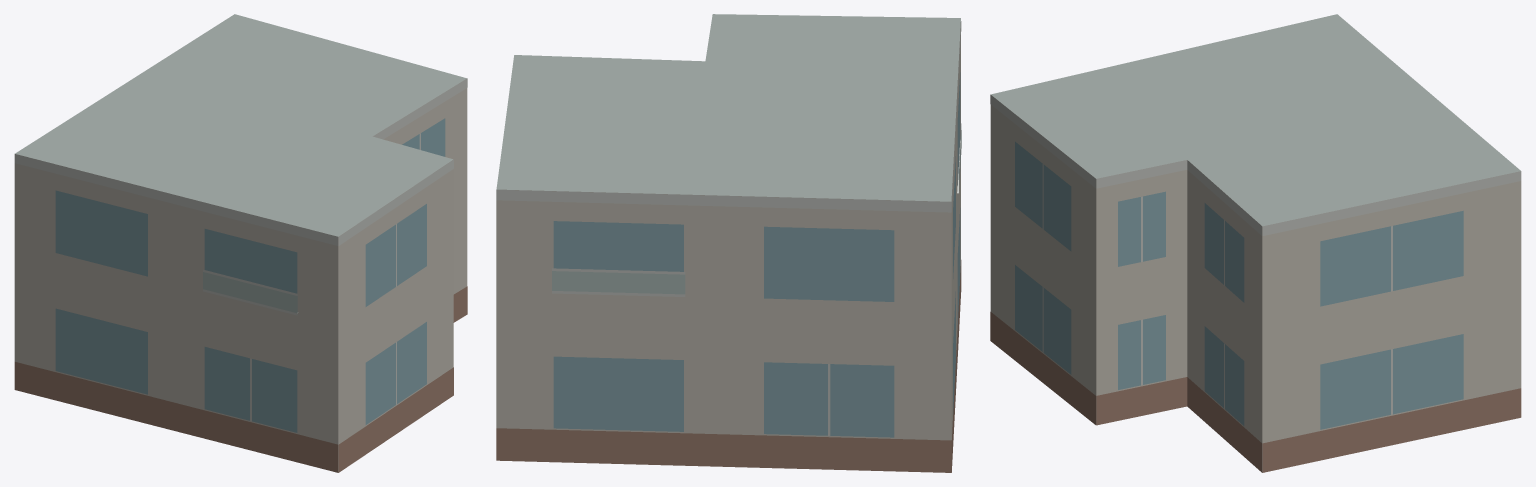
Rendered from survey-upis-32585482.glb.
3 renders of one model, left to right at view 1: azimuth 30°, elevation 25°; view 2: azimuth 150°, elevation 25°; view 3: azimuth 270°, elevation 25°, orthographic. The views are drawn at different scales.
Visible parts, largest first — view 1: survey-upis-32585482.tmp; view 2: survey-upis-32585482.tmp; view 3: survey-upis-32585482.tmp.
Part boxes in pixels (x1,y1,x2,y2): survey-upis-32585482.tmp: (14, 14, 467, 472); survey-upis-32585482.tmp: (496, 14, 961, 472); survey-upis-32585482.tmp: (990, 14, 1521, 472).
Bounding box in the file's own units: 11.28 × 6.1 × 11.92.
